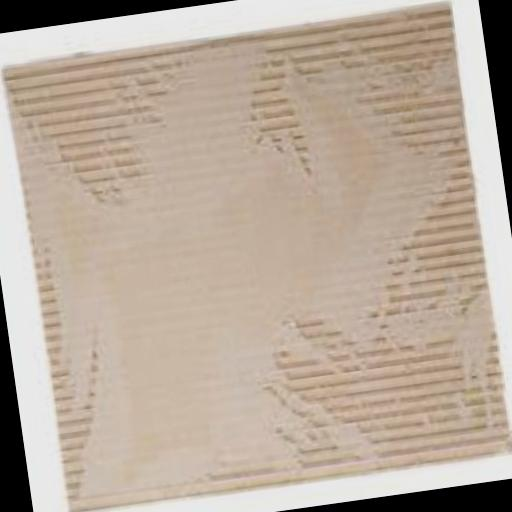cardboard: (3, 3, 512, 512)
